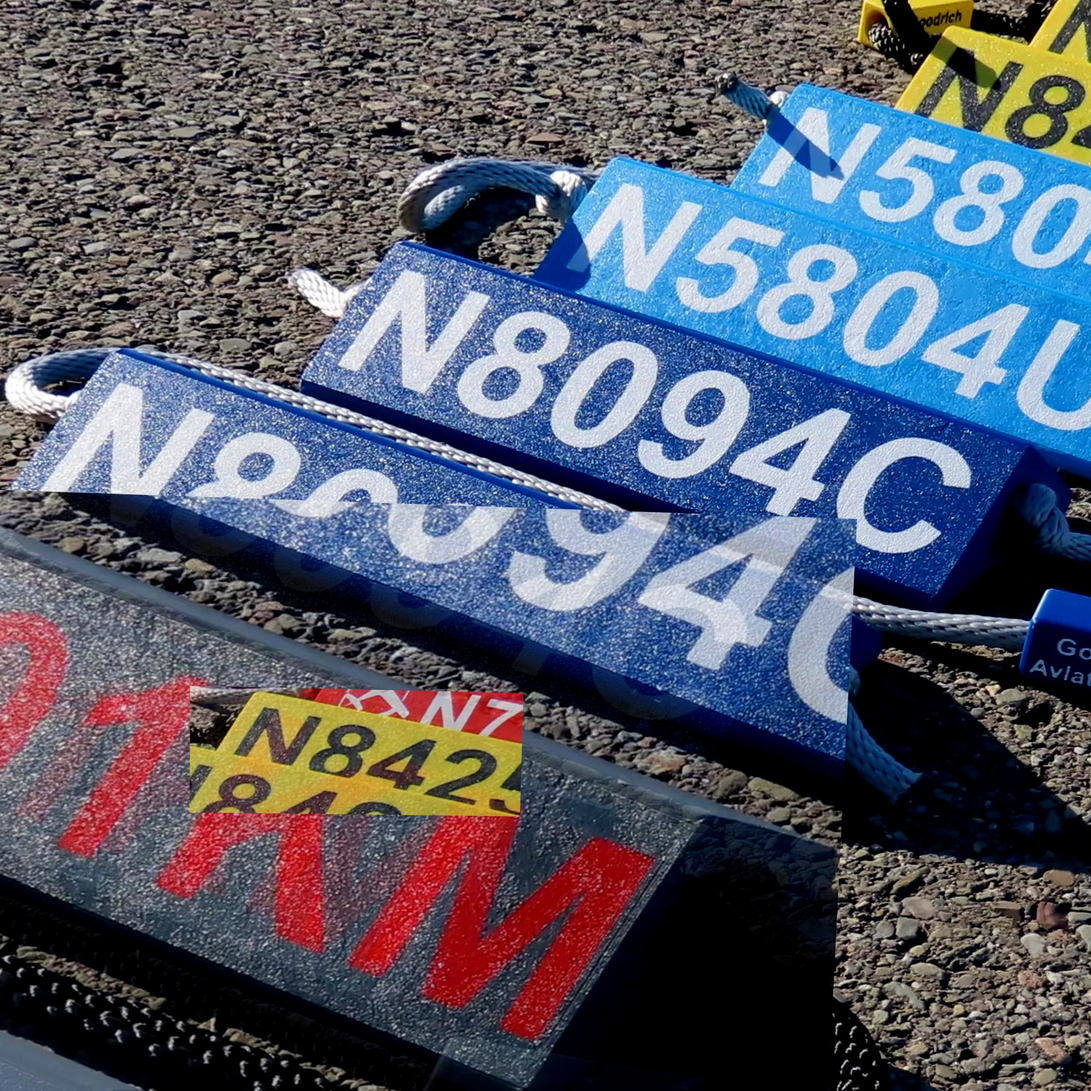chock: (0, 487, 857, 1091), (0, 334, 902, 799), (0, 534, 646, 1038), (292, 236, 1091, 620), (527, 151, 1091, 494), (715, 74, 1091, 376), (865, 14, 1091, 269), (0, 926, 287, 1091), (190, 686, 524, 817)
